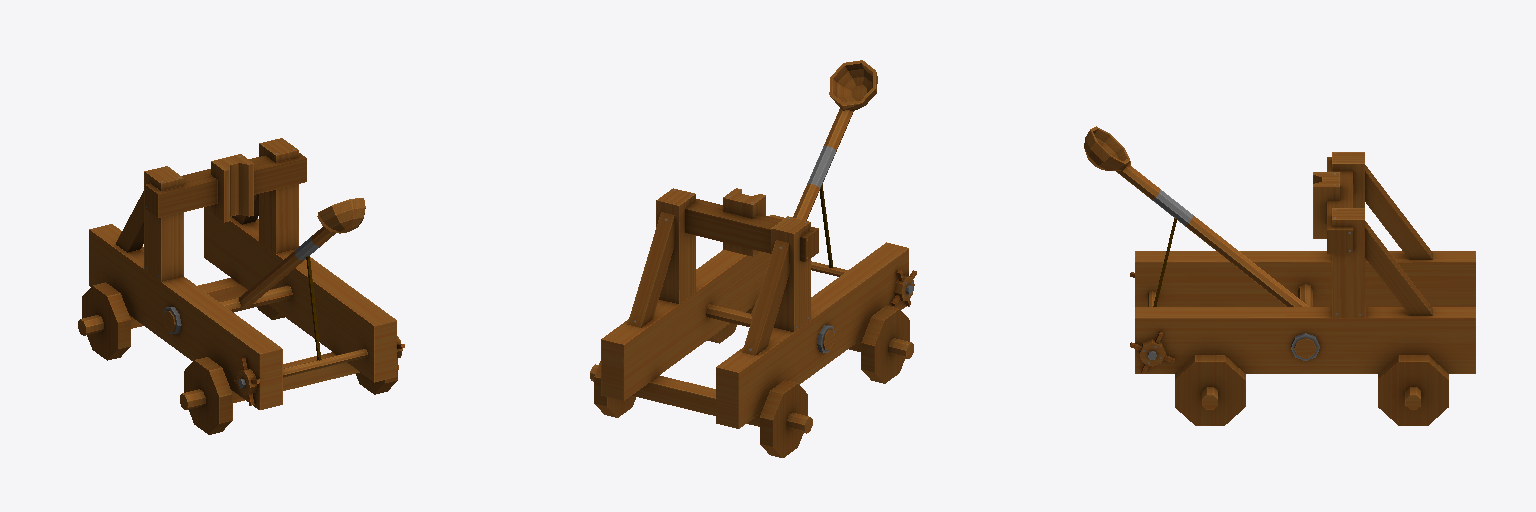
3 renders of one model, left to right at view 1: azimuth 30°, elevation 25°; view 2: azimuth 150°, elevation 25°; view 3: azimuth 270°, elevation 25°, orthographic.
Visible parts, largest first — view 1: Catapult_mesh; view 2: Catapult_mesh; view 3: Catapult_mesh.
Boxes of the visible parts, box(x1,y1,x2,y2) form: Catapult_mesh: box(78, 138, 404, 434); Catapult_mesh: box(590, 60, 916, 457); Catapult_mesh: box(1084, 126, 1475, 425).
Size of the model in its own units: 9.35 by 10.52 by 14.79.
Materials: 1 (1 with a texture image).